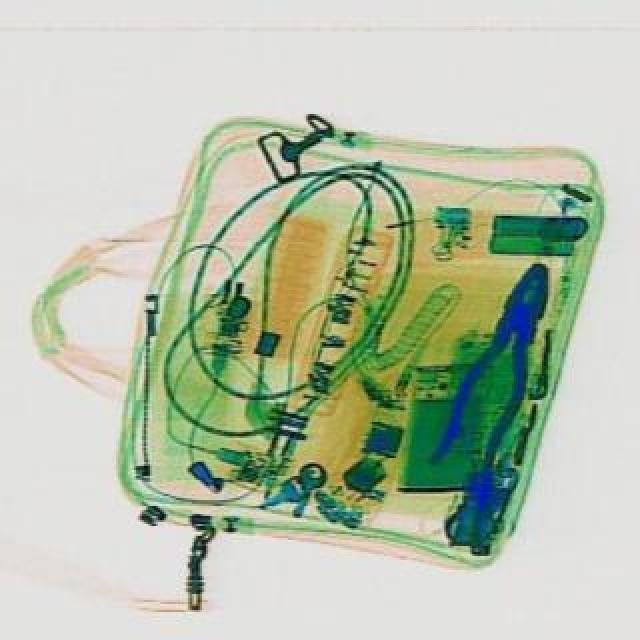wrench: (420, 254, 570, 482)
